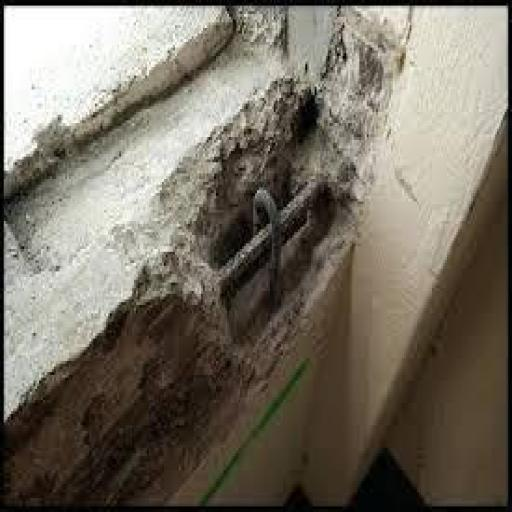spalling: (188, 104, 362, 373)
